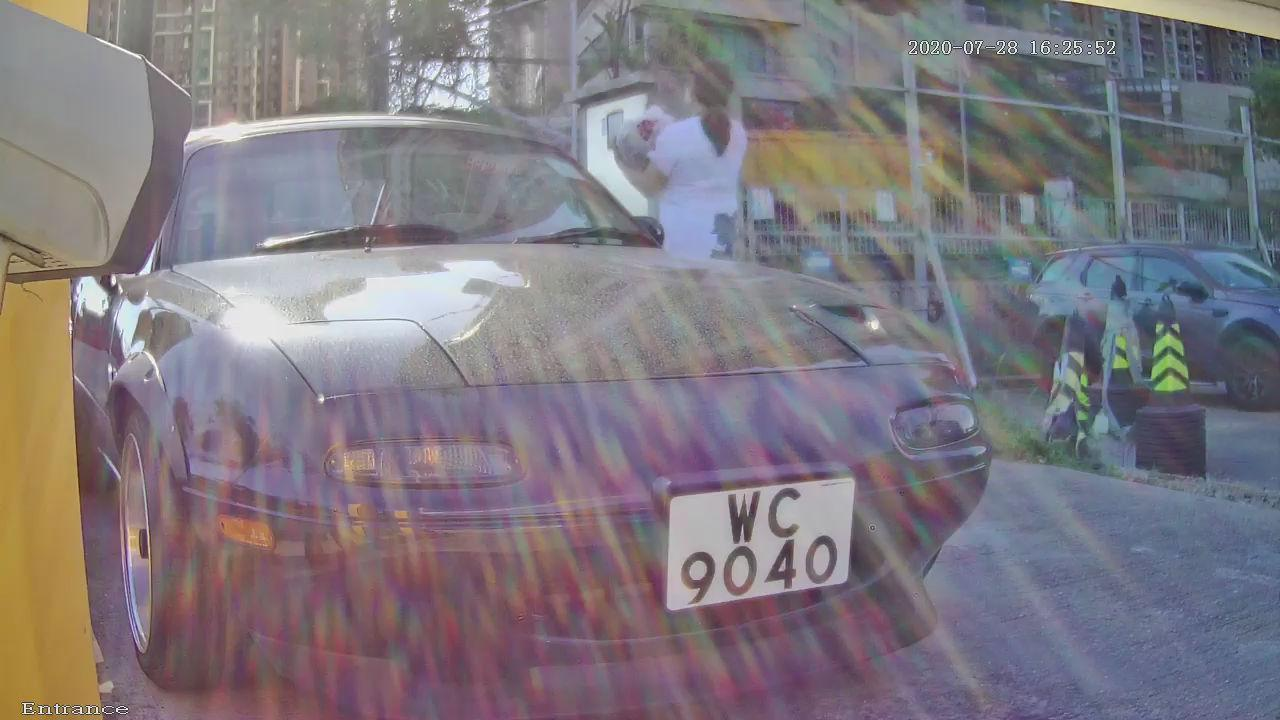privatecar: (52, 17, 1235, 708)
